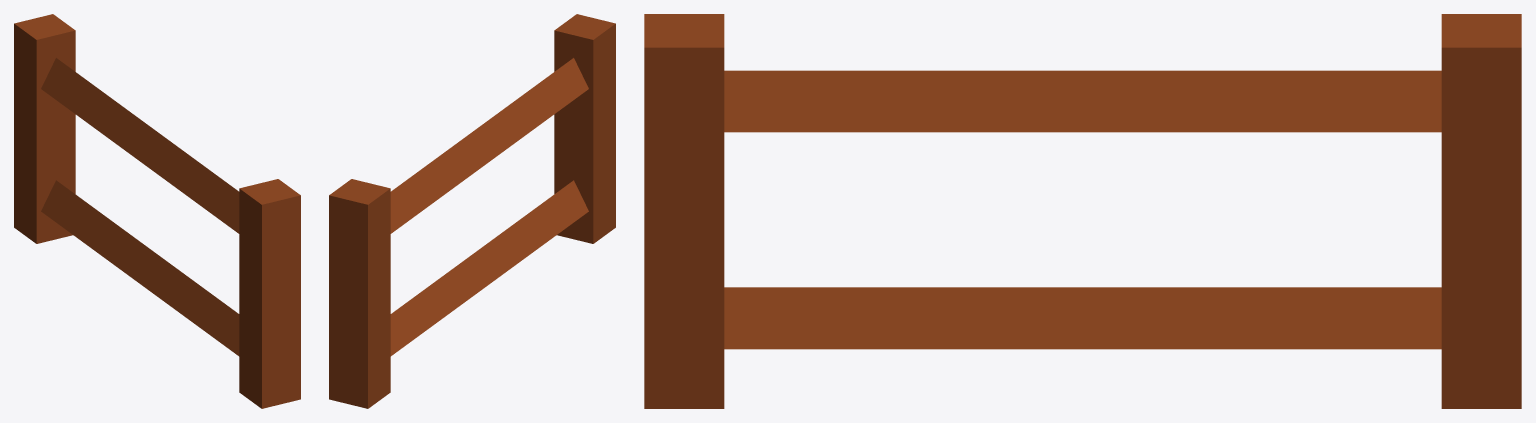
Rendered from fence.fbx.
3 views of the same model, side by side, from view 1: azimuth 30°, elevation 25°; view 2: azimuth 150°, elevation 25°; view 3: azimuth 270°, elevation 25° (orthographic). The views are drawn at different scales.
Parts seen in each view (by area): view 1: Cylinder; view 2: Cylinder; view 3: Cylinder.
Boxes of the visible parts, x1,y1,x2,y2 form: Cylinder: [14, 14, 300, 408]; Cylinder: [329, 14, 615, 408]; Cylinder: [644, 14, 1521, 408].
Size of the model in its own units: 20 by 100 by 220.
